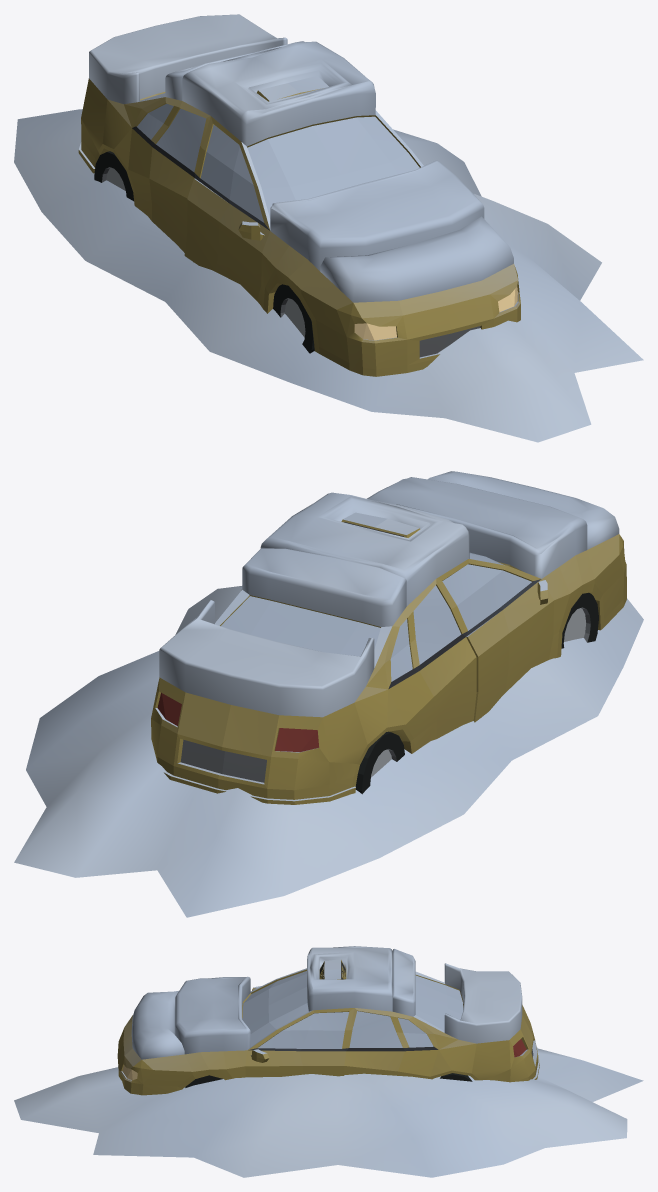
File: taxi_snowed.glb
3 views of the same model, one above another, from view 1: azimuth 30°, elevation 25°; view 2: azimuth 150°, elevation 25°; view 3: azimuth 270°, elevation 25° (orthographic). The views are drawn at different scales.
Parts seen in each view (by area): view 1: Body; view 2: Body; view 3: Body.
Part boxes in pixels (x1=…): Body: x1=14, y1=14, x2=643, y2=442; Body: x1=14, y1=471, x2=643, y2=917; Body: x1=14, y1=946, x2=643, y2=1177.
Bounding box in the file's own units: 3.35 × 1.6 × 6.93.
